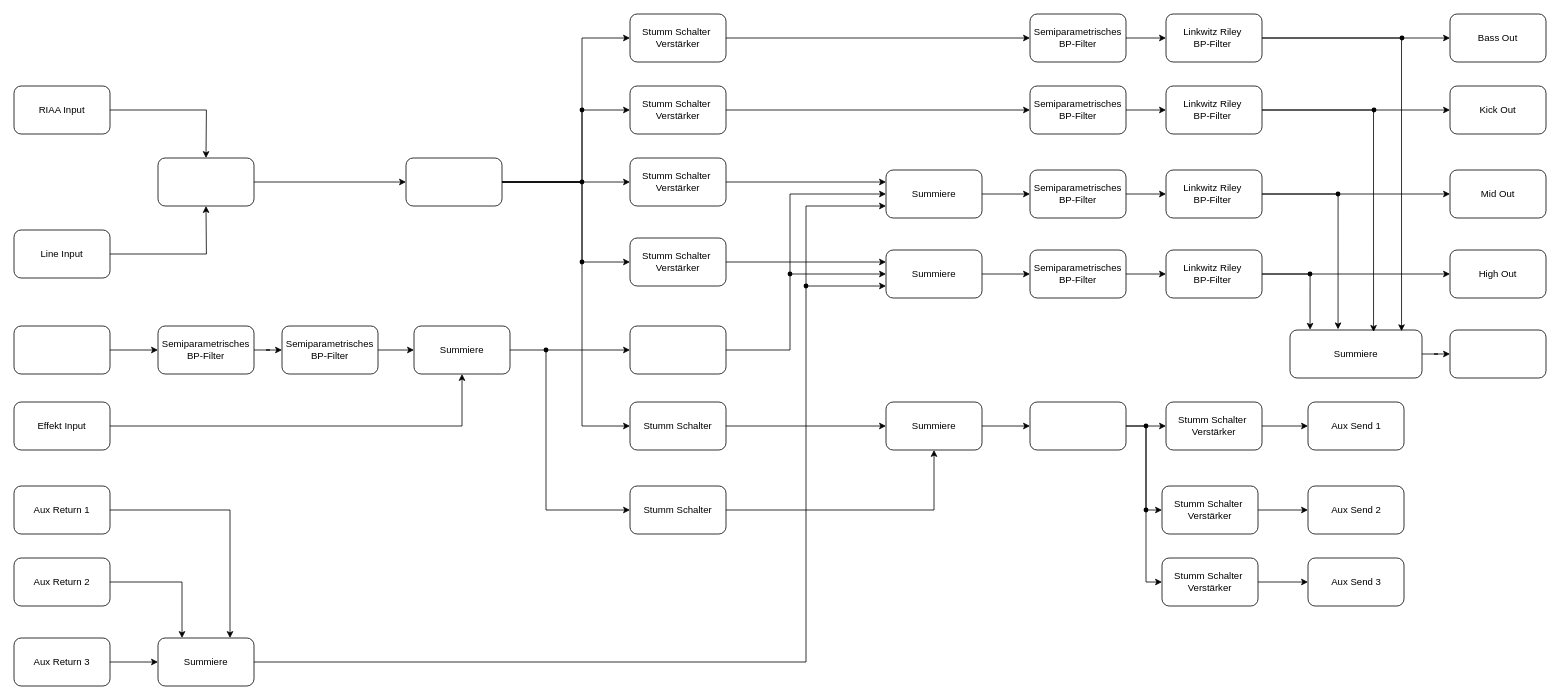
Some shapes in this 1560 by 700 pixel diagram are drawn without their labels. The box of each missing label's shape, as (x1, y1, x2, y2) in pixels:
Impedanz Wandler: (629, 325, 726, 374)
Line Out: (1449, 329, 1546, 378)
Mic Input: (13, 325, 110, 374)
Semiparametrisches HP-Filter: (1029, 401, 1126, 450)
Verstärker: (405, 157, 502, 206)
Wahl Schalte: (157, 157, 254, 206)
